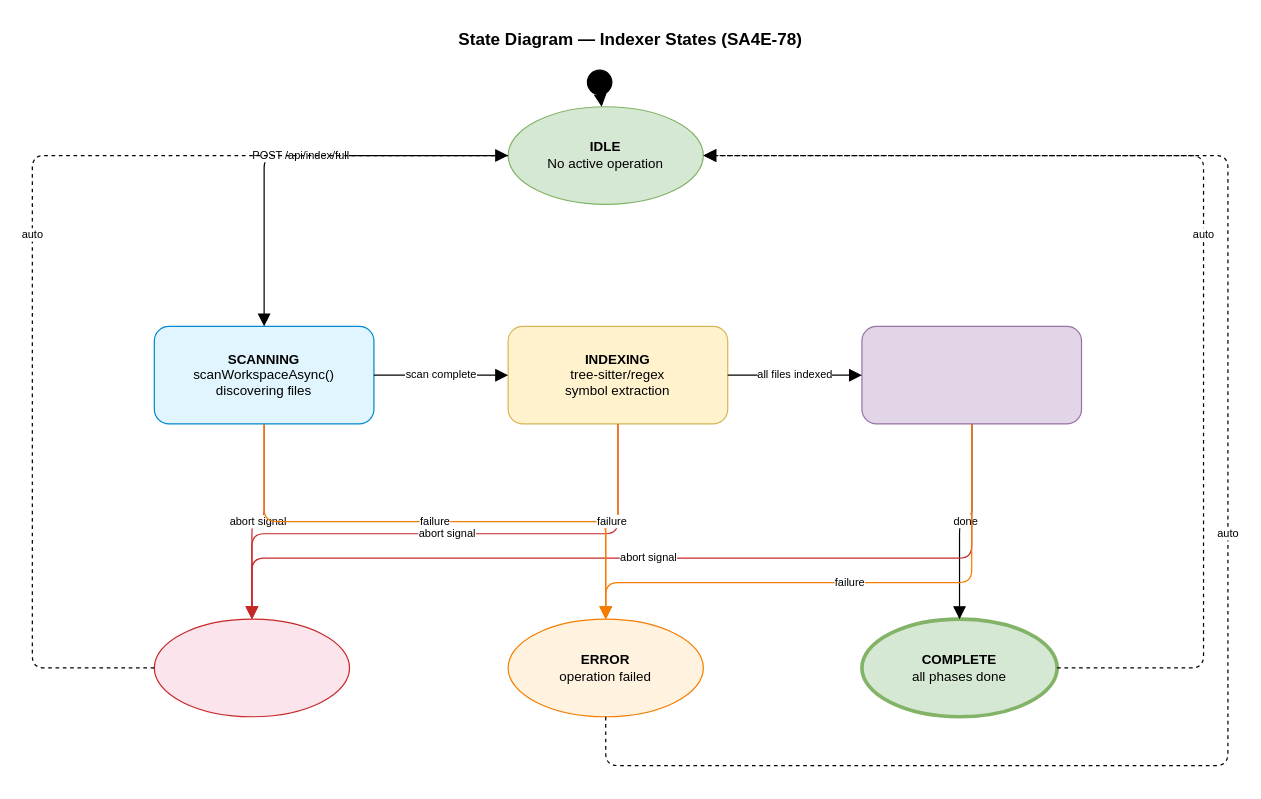
Some shapes in this 1261 by 799 pixel diagram are drawn without their labels. Here are the shapes that lost their labels. From the top down, the box of each, then its label:
(861, 325, 1082, 424): RESOLVING cross-file references + graph sync
(153, 618, 350, 717): CANCELLED user-initiated stop
